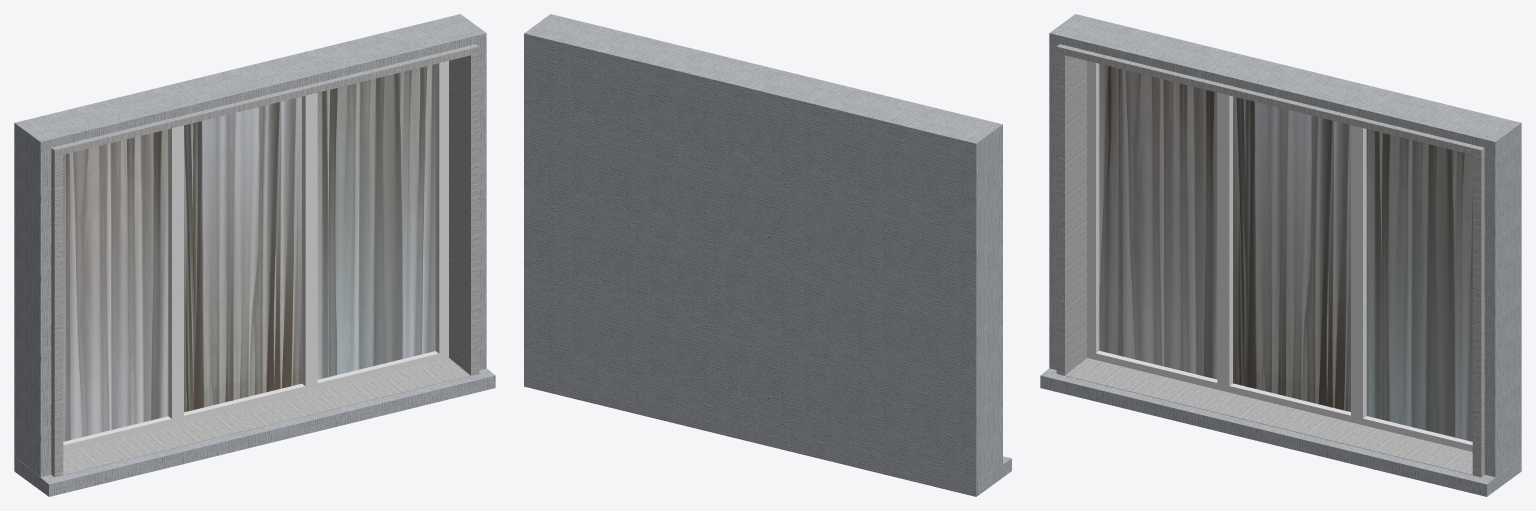
File: Window3.glb
The picture shows the model from 3 angles, left to right: view 1: azimuth 30°, elevation 25°; view 2: azimuth 150°, elevation 25°; view 3: azimuth 330°, elevation 25°; orthographic projection.
Parts seen in each view (by area): view 1: Window; view 2: Window; view 3: Window.
Part boxes in pixels (x1,y1,x2,y2): Window: [14, 14, 495, 496]; Window: [524, 14, 1011, 496]; Window: [1040, 14, 1521, 496].
Bounding box in the file's own units: 5.36 × 4 × 0.7285.
Materials: 4 (4 with a texture image).
